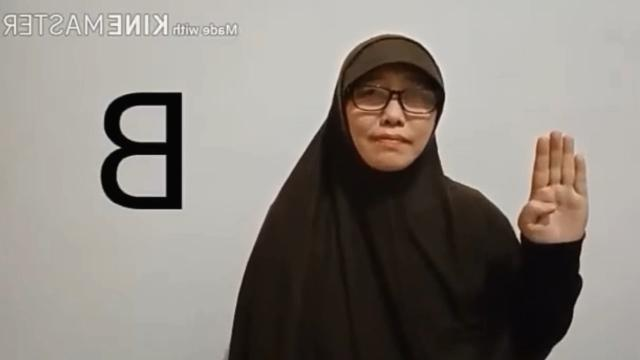B: (517, 128, 591, 253)
